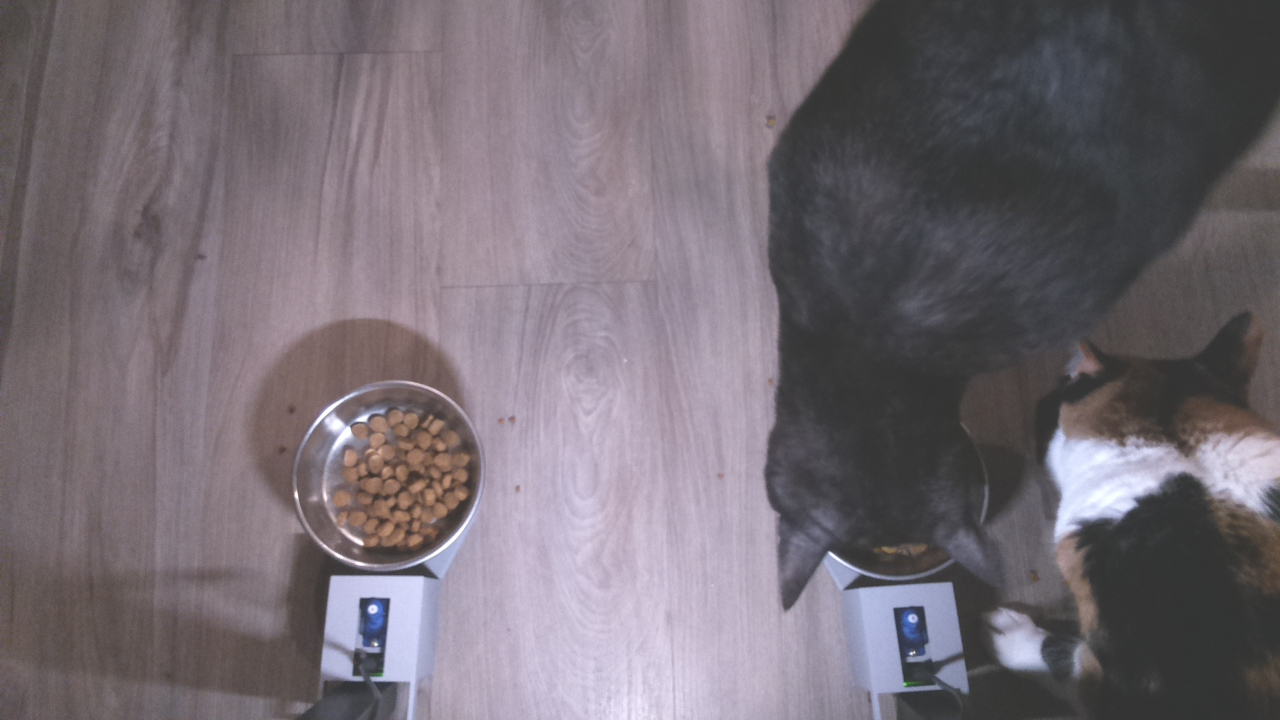bella: (1042, 303, 1280, 524)
open_bowl: (287, 374, 488, 576)
saki_eating: (747, 343, 1015, 604)
